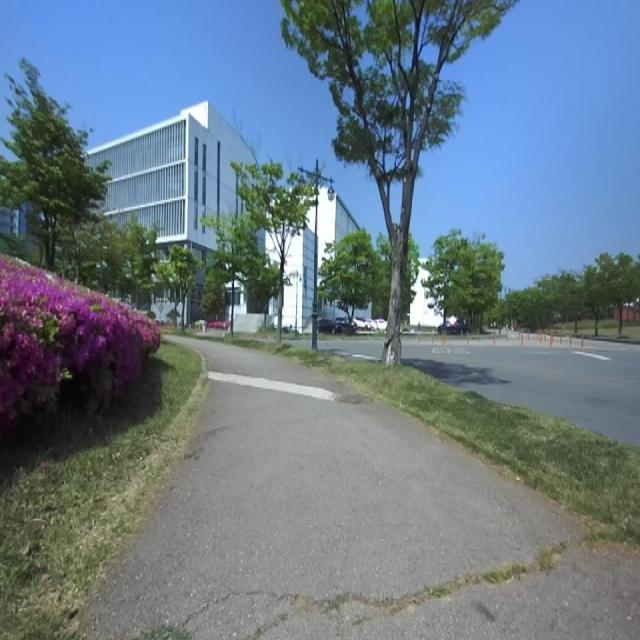sidewalk: (85, 338, 640, 639)
